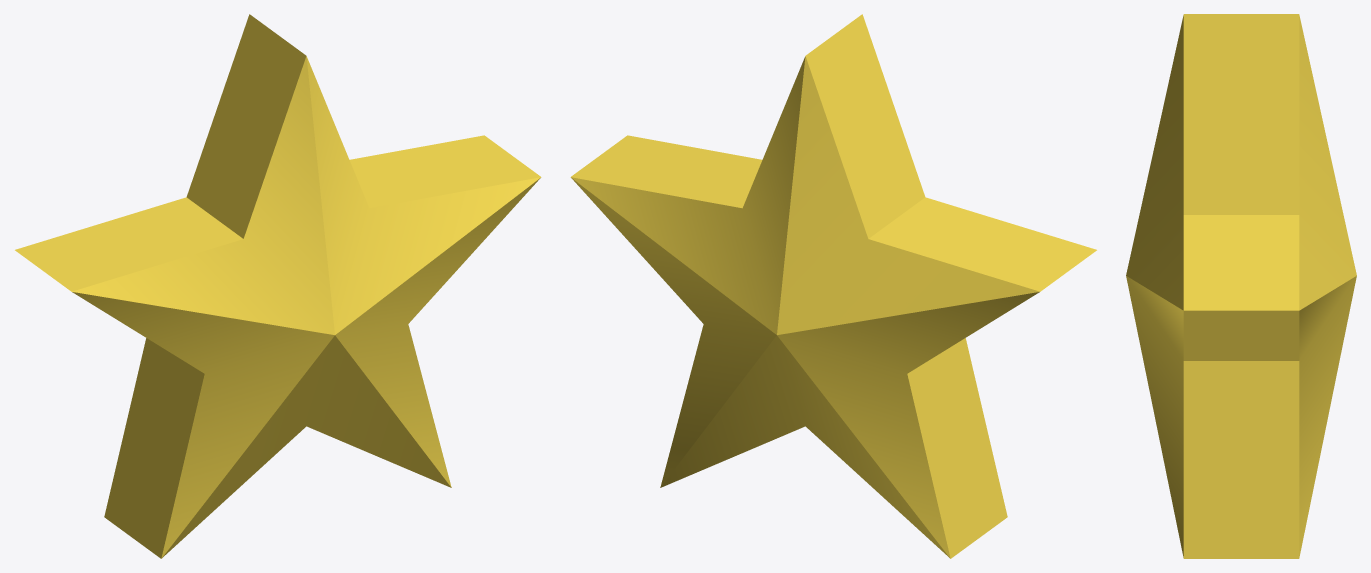
Rendered from Star.fbx.
3 views of the same model, side by side, from view 1: azimuth 30°, elevation 25°; view 2: azimuth 150°, elevation 25°; view 3: azimuth 270°, elevation 25° (orthographic).
Visible parts, largest first — view 1: Star; view 2: Star; view 3: Star.
Boxes of the visible parts, left/top/right/bottom form: Star: left=15, top=14, right=541, bottom=558; Star: left=570, top=14, right=1096, bottom=558; Star: left=1126, top=14, right=1356, bottom=558.
Bounding box in the file's own units: 571 × 543 × 240.
